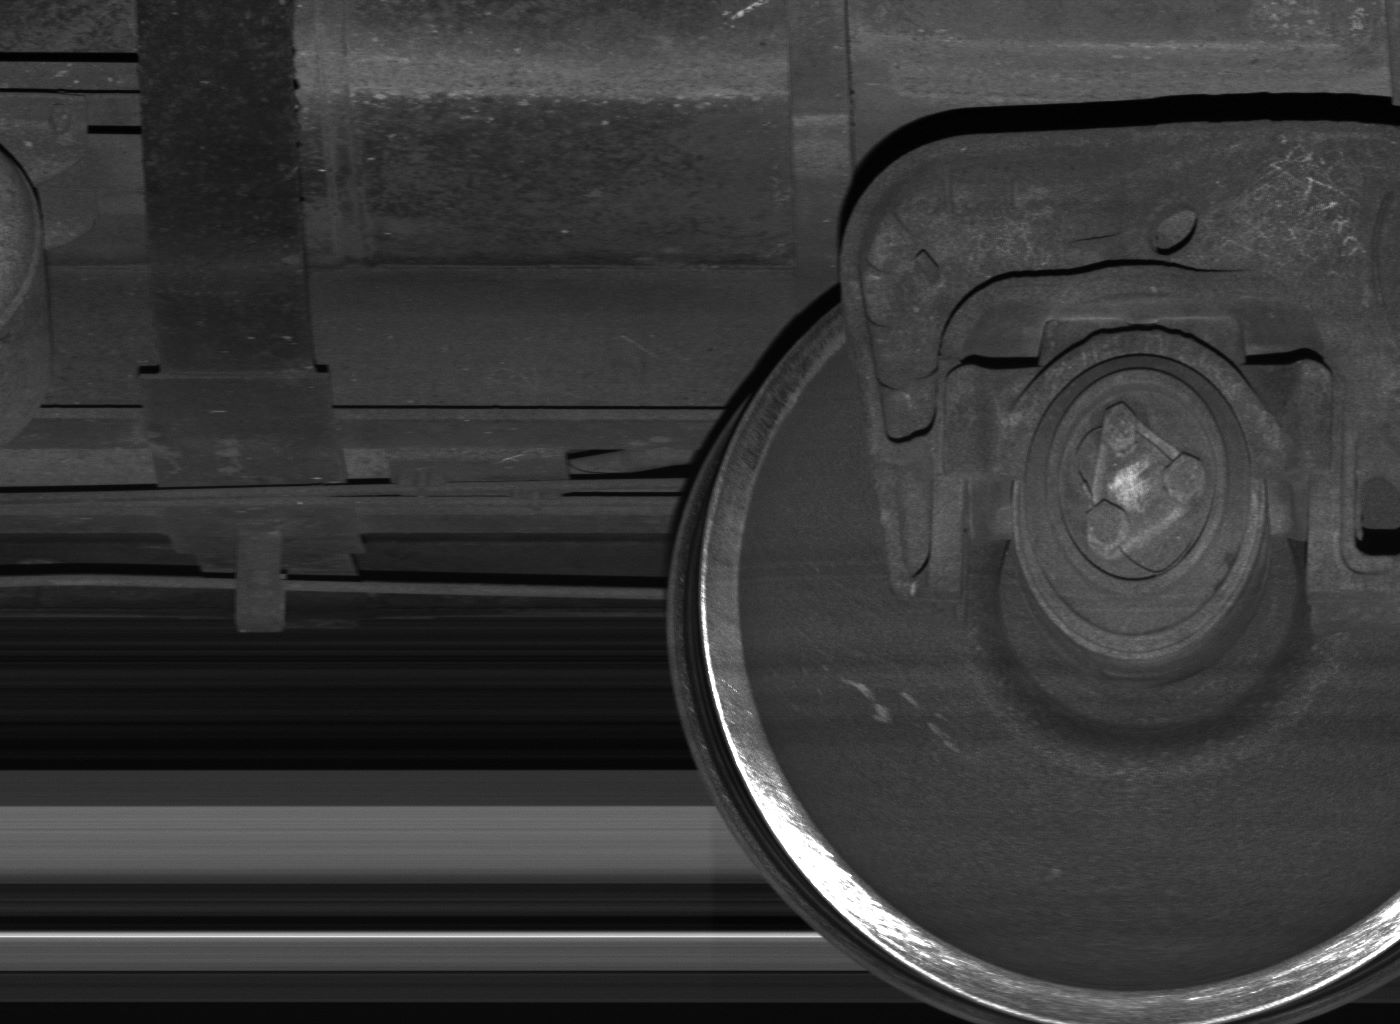normal: (236, 530, 291, 635)
